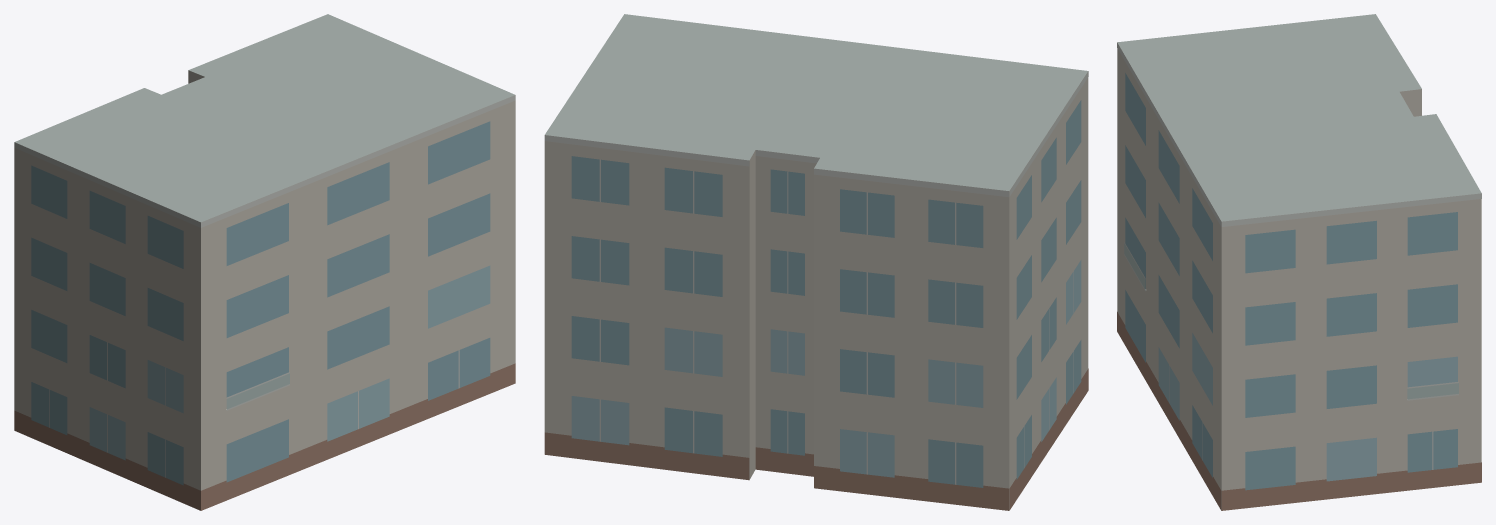
The model's file is survey-upis-32723392.glb.
3 renders of one model, left to right at view 1: azimuth 30°, elevation 25°; view 2: azimuth 150°, elevation 25°; view 3: azimuth 270°, elevation 25°, orthographic. The views are drawn at different scales.
Visible parts, largest first — view 1: survey-upis-32723392.tmp; view 2: survey-upis-32723392.tmp; view 3: survey-upis-32723392.tmp.
Boxes of the visible parts, <box> form: survey-upis-32723392.tmp: <box>14,14,515,510</box>; survey-upis-32723392.tmp: <box>544,14,1088,510</box>; survey-upis-32723392.tmp: <box>1117,14,1481,510</box>.
Size of the model in its own units: 19.71 by 12.8 by 14.63.
